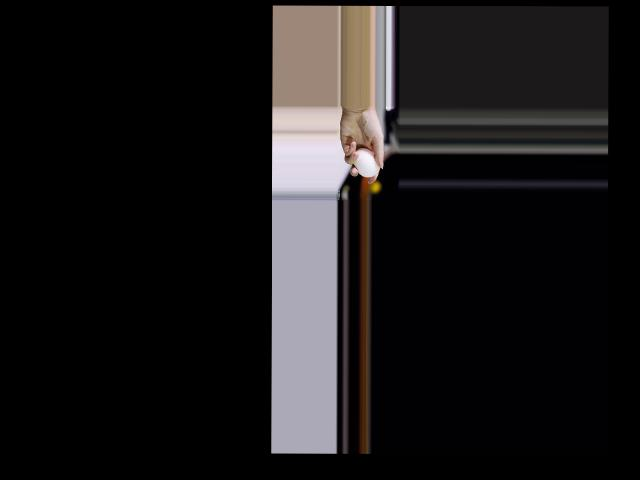egg: (353, 148, 378, 178)
